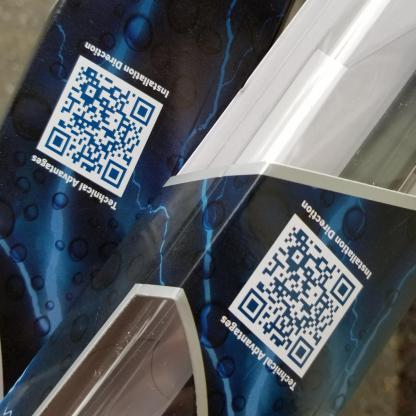qr: (230, 224, 360, 372), (44, 64, 158, 192)
